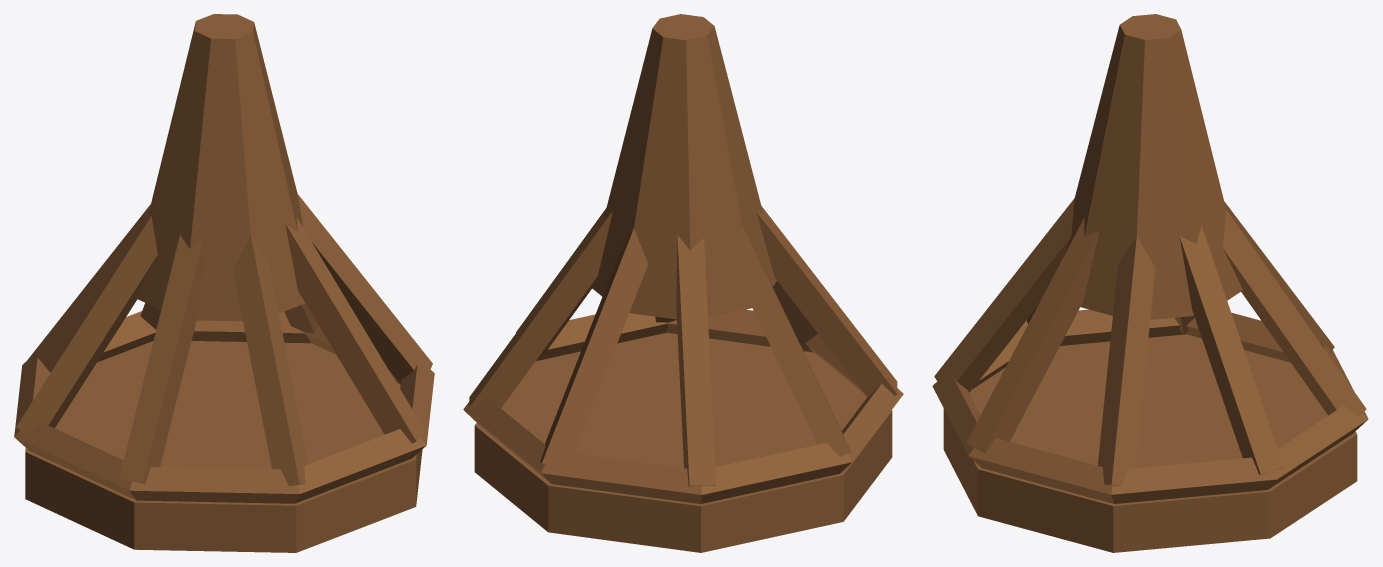
3 views of the same model, side by side, from view 1: azimuth 30°, elevation 25°; view 2: azimuth 150°, elevation 25°; view 3: azimuth 270°, elevation 25° (orthographic).
Parts seen in each view (by area): view 1: Cylinder1482_brown_0, Object130_brown_0, Object131_brown_0, Object129_brown_0; view 2: Cylinder1482_brown_0, Object130_brown_0, Object131_brown_0, Object129_brown_0; view 3: Cylinder1482_brown_0, Object130_brown_0, Object131_brown_0, Object129_brown_0.
Boxes of the visible parts, x1,y1,x2,y2 form: Cylinder1482_brown_0: [25, 341, 422, 552]; Object130_brown_0: [16, 194, 432, 486]; Object131_brown_0: [136, 14, 304, 321]; Object129_brown_0: [14, 311, 434, 503]; Cylinder1482_brown_0: [474, 332, 892, 552]; Object130_brown_0: [469, 206, 897, 486]; Object131_brown_0: [590, 14, 776, 319]; Object129_brown_0: [463, 309, 903, 504]; Cylinder1482_brown_0: [943, 334, 1357, 552]; Object130_brown_0: [934, 198, 1366, 486]; Object131_brown_0: [1063, 14, 1242, 319]; Object129_brown_0: [932, 309, 1368, 503].
Size of the model in its own units: 446 by 495 by 446.
